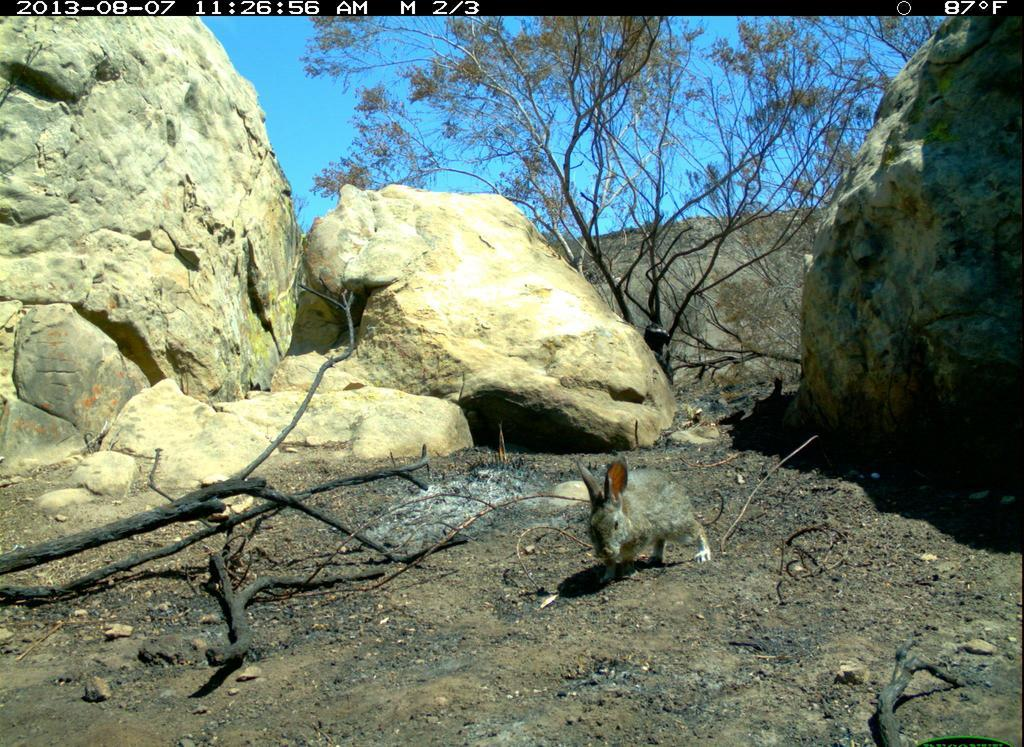rabbit: (571, 455, 717, 575)
